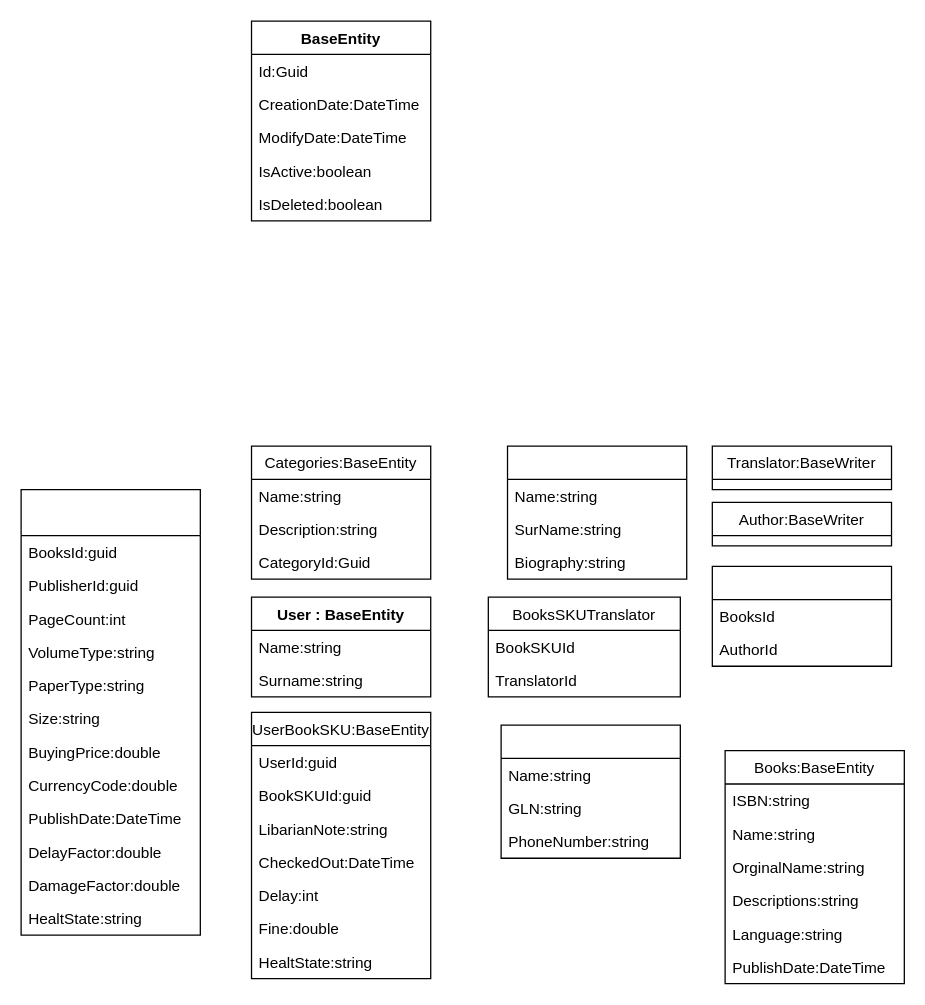
This 925x1005 diagram has some shape labels left out. Each missing label, with the box of its shape:
BaseWriter:BaseEntity: (506, 445, 687, 579)
BooksAuthor: (711, 565, 892, 666)
BookStockKeepingUnit :BaseEntity: (20, 488, 200, 935)
Publisher:BaseEntity: (500, 724, 680, 858)
